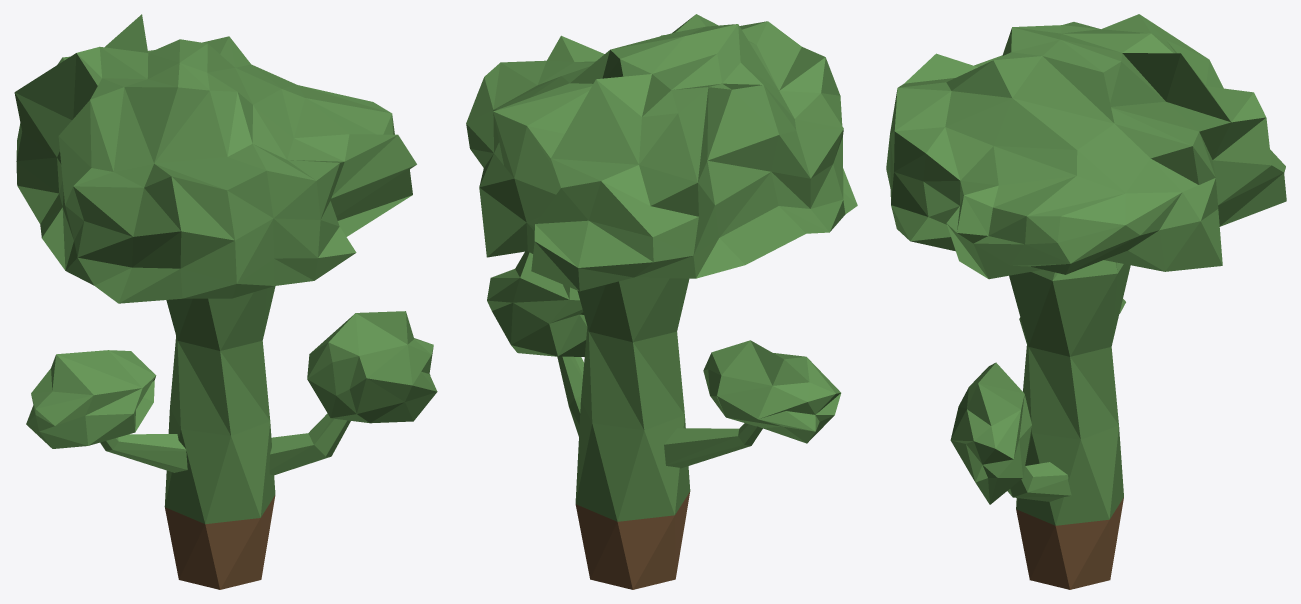
The model's file is tree3d-074.glb.
3 views of the same model, side by side, from view 1: azimuth 30°, elevation 25°; view 2: azimuth 150°, elevation 25°; view 3: azimuth 270°, elevation 25° (orthographic). The views are drawn at different scales.
Visible parts, largest first — view 1: tree3d-074; view 2: tree3d-074; view 3: tree3d-074.
Boxes of the visible parts, x1,y1,x2,y2 form: tree3d-074: (14,14,437,589); tree3d-074: (466,14,857,589); tree3d-074: (886,14,1286,589).
Bounding box in the file's own units: 0.7338 × 1 × 0.7134.
